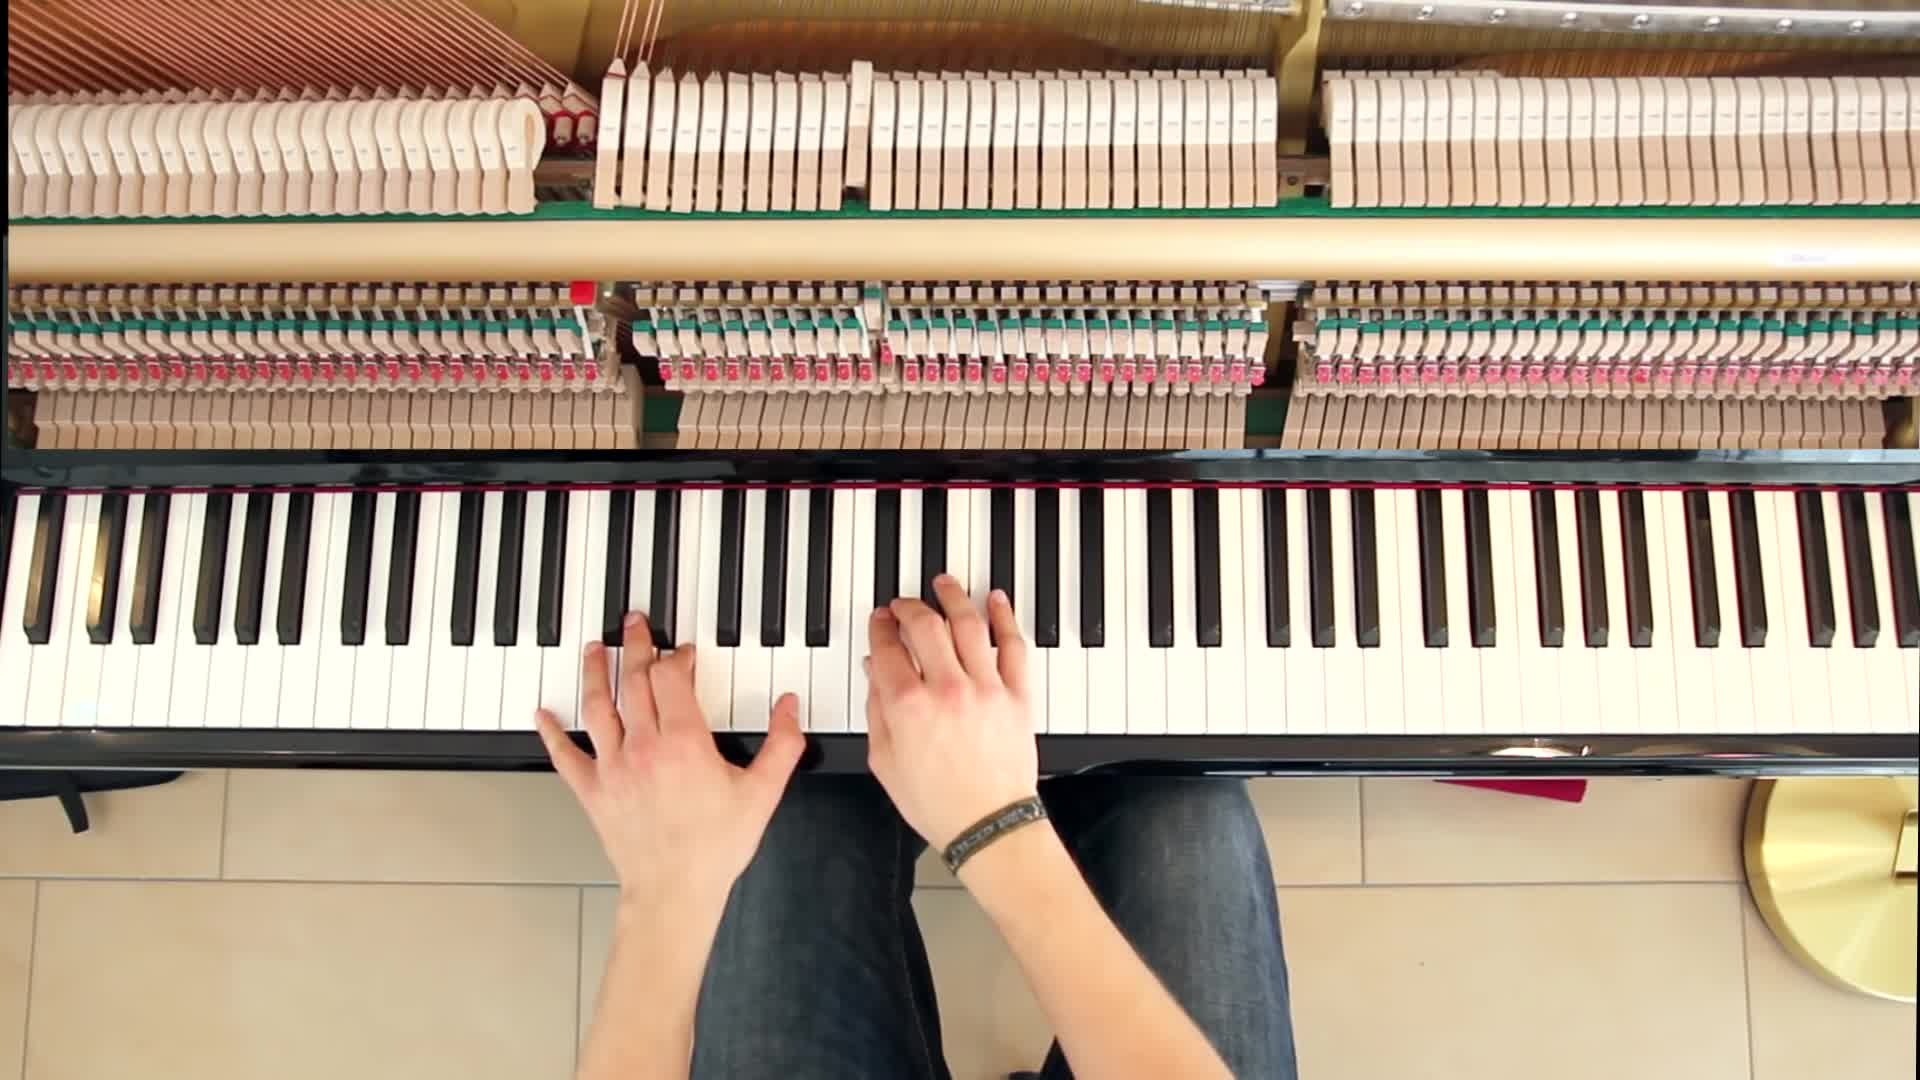left: (527, 603, 818, 899)
right: (847, 564, 1054, 849)
